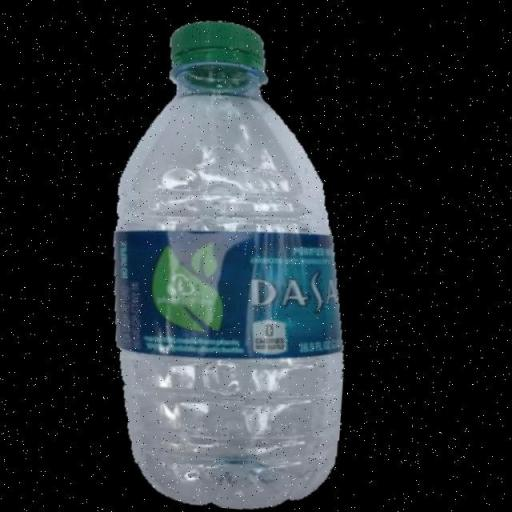plastic: (94, 13, 367, 512)
